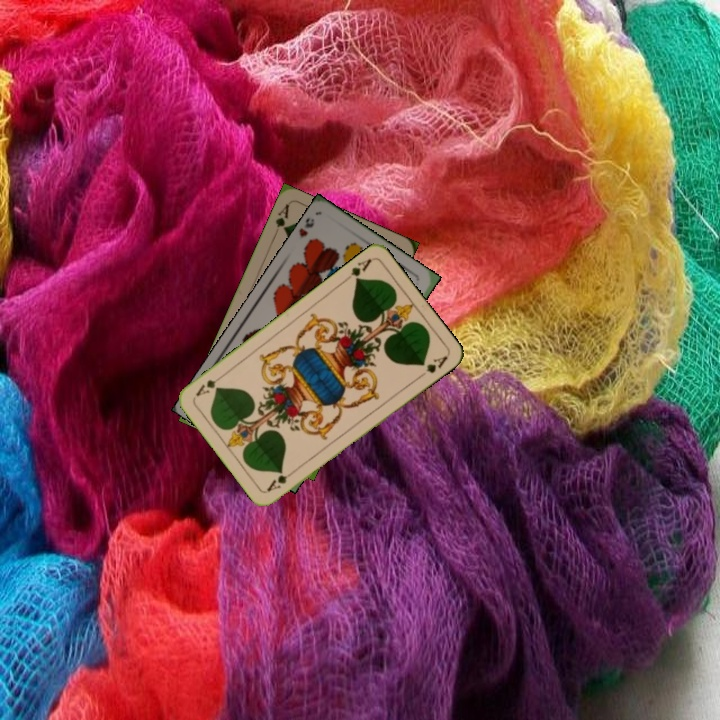GA: (263, 465, 298, 495), (340, 254, 374, 284), (270, 200, 292, 239)
H9: (295, 214, 317, 240)
